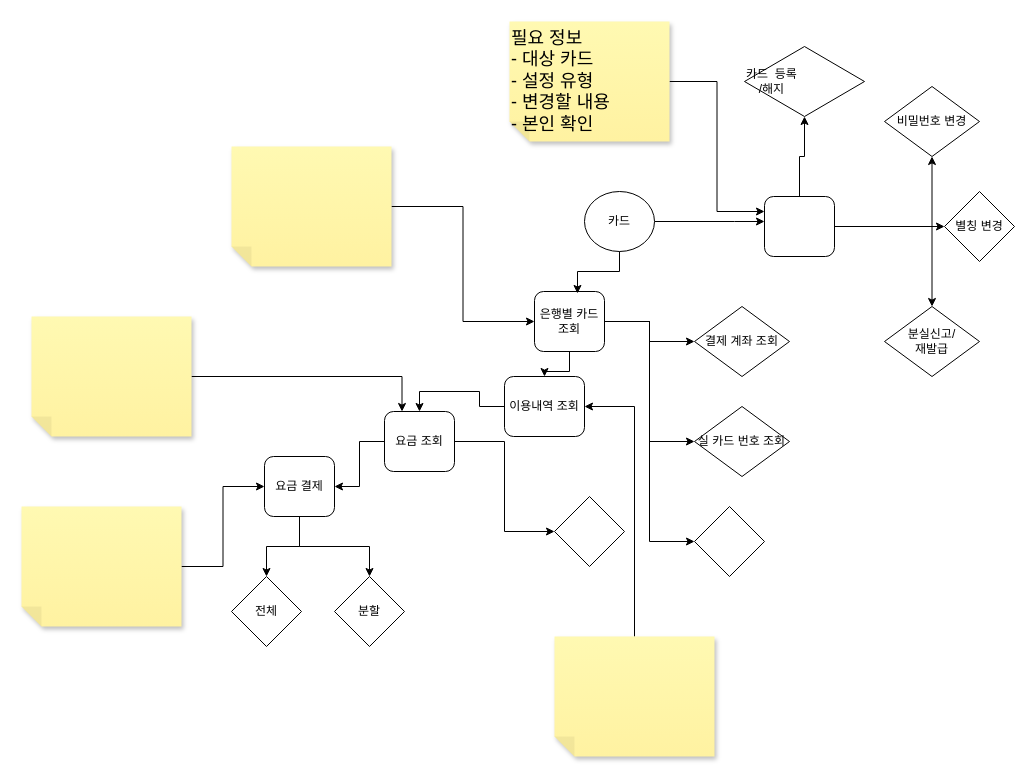
This 1032x780 diagram has some shape labels left out. Each missing label, with the centre of its shape:
"멤버십" belongs at (x=729, y=541).
"명세서" belongs at (x=589, y=531).
"설정" belongs at (x=799, y=226).
"필요 정보 - 대상 카드 - 결제 계좌 - 결제 금액 - 결제 방식" belongs at (x=102, y=567).
"필요 정보 - 대상 카드 - 조회 기간 - 검색어(선택)" belongs at (x=635, y=697).
"필요 정보 - 대상 카드 - 조회 월 - 요금 종류(선택)" belongs at (x=112, y=377).
"필요 정보 - 은행명 - 카드 종류(선택) - 카드 상태(선택)" belongs at (x=312, y=207).
